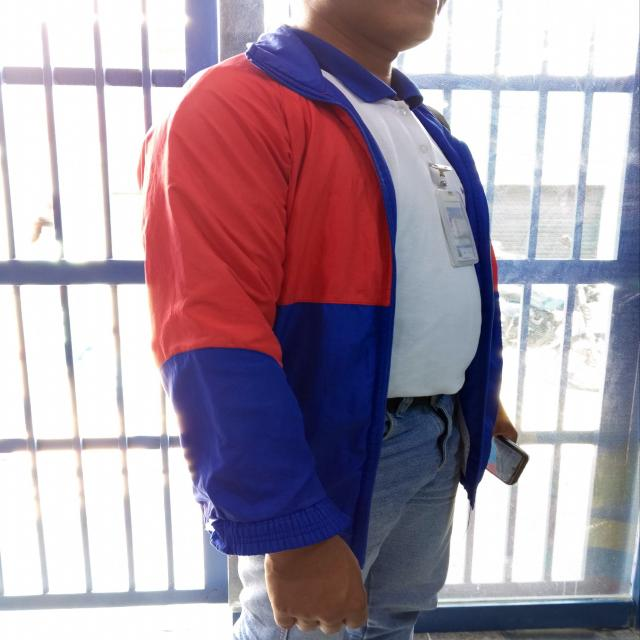carnet: (444, 206, 476, 262)
chaqueta_unefa: (135, 21, 506, 557)
